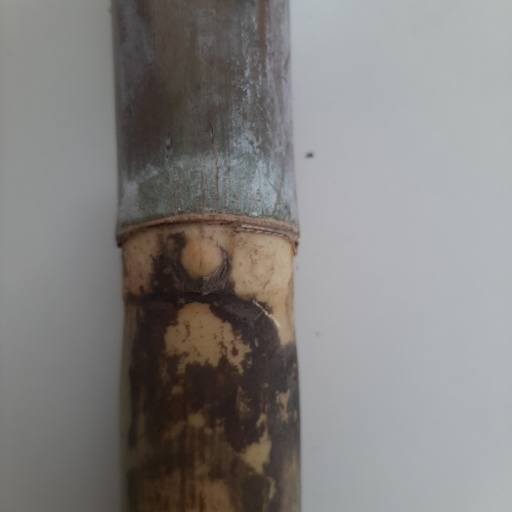Bud: (178, 231, 225, 287)
